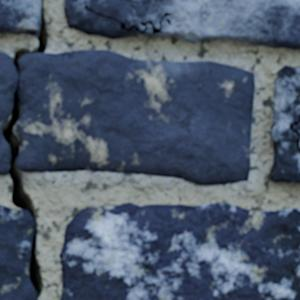brick: (60, 203, 299, 299), (86, 0, 299, 48), (270, 66, 299, 182), (0, 205, 35, 299), (65, 0, 137, 37), (0, 0, 40, 34), (143, 26, 169, 35), (294, 125, 299, 130)
broken_brick: (18, 49, 254, 185), (0, 52, 18, 123), (0, 134, 8, 175)
crack: (0, 0, 50, 299), (83, 0, 172, 34), (288, 114, 299, 152)
